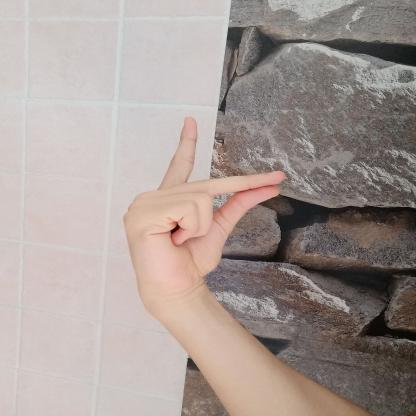TAA: (109, 108, 300, 305)
